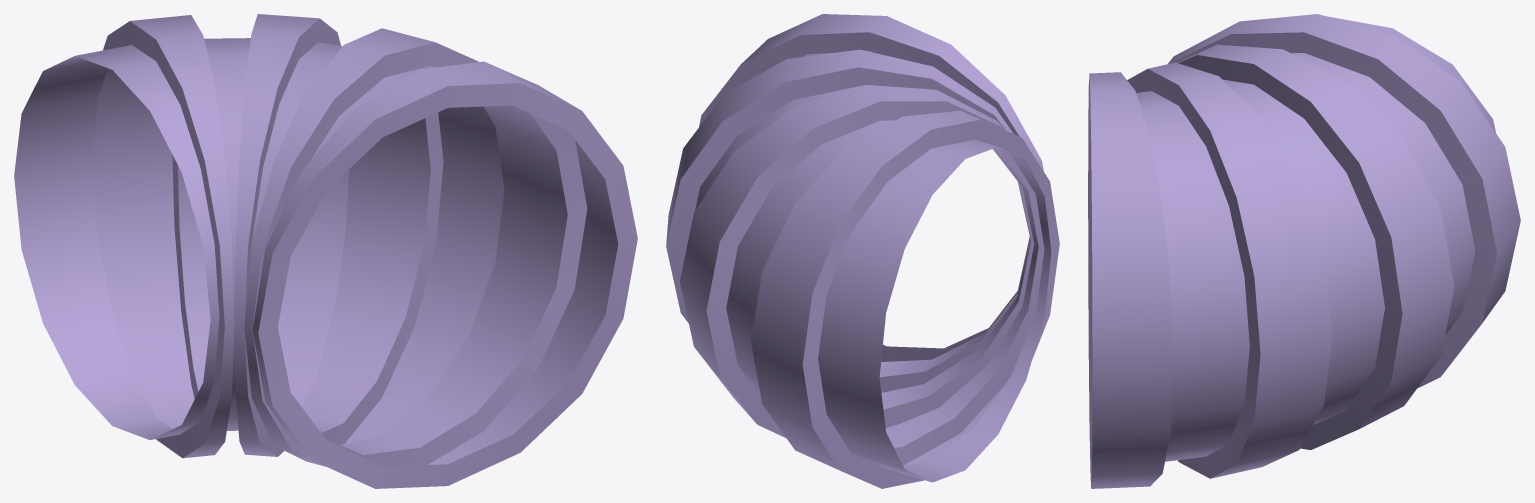
File: tile_pipe_large_curved.fbx
3 renders of one model, left to right at view 1: azimuth 30°, elevation 25°; view 2: azimuth 150°, elevation 25°; view 3: azimuth 270°, elevation 25°, orthographic. The views are drawn at different scales.
Parts seen in each view (by area): view 1: pTorus1; view 2: pTorus1; view 3: pTorus1.
Part boxes in pixels (x1,y1,x2,y2): pTorus1: [14, 14, 637, 488]; pTorus1: [666, 14, 1059, 488]; pTorus1: [1088, 14, 1520, 488].
Size of the model in its own units: 9.49 by 8.98 by 9.34.
